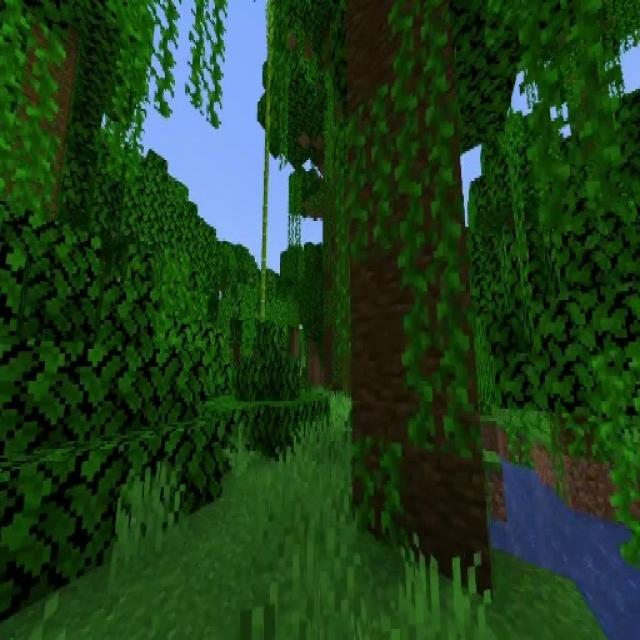jungle_log: (343, 6, 491, 586), (0, 36, 83, 222)
